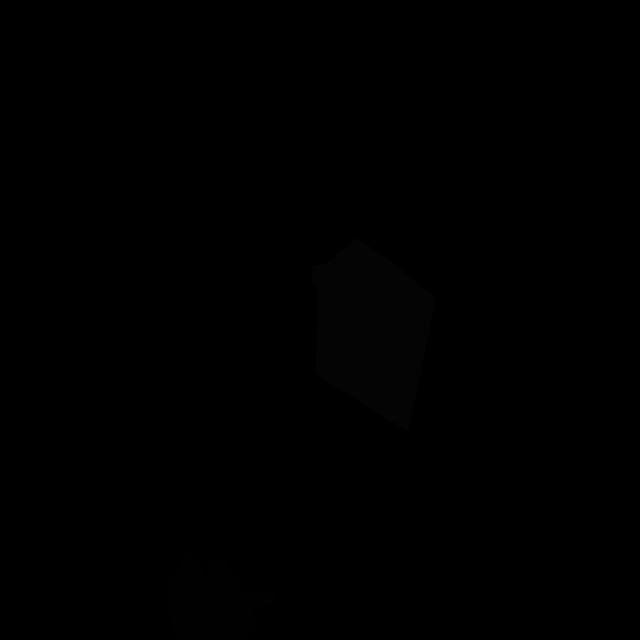rigid_plastic: (169, 552, 279, 639)
soft_plastic: (311, 238, 435, 432)
